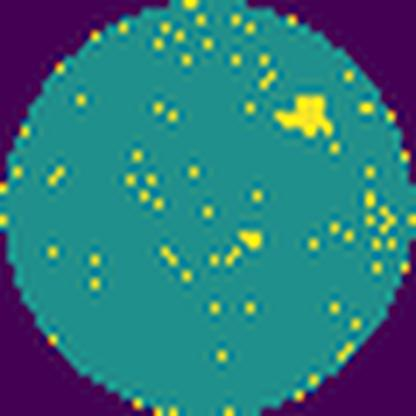Loc: (275, 89, 332, 141)
